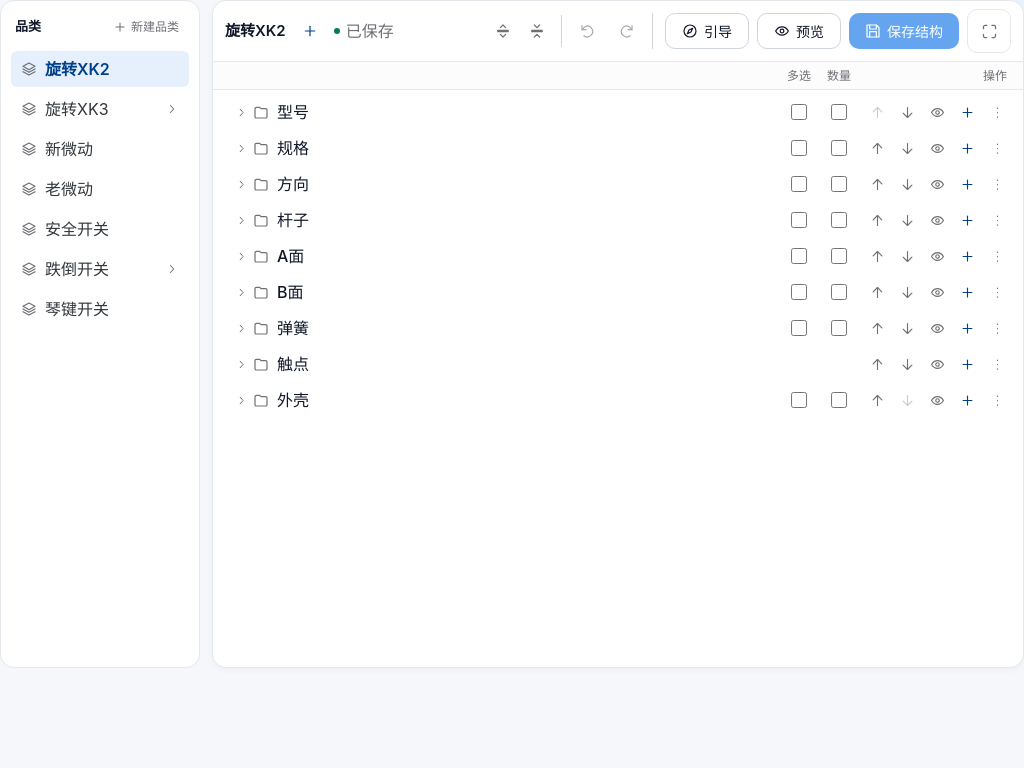
Test case: 目录默认折叠，切换品类保持各自的展开选择，展开和收起全部仍可用
The width and height of the screenshot is (1024, 768).
Expected: the button "0-2" is not shown
Click the button named "展开全部": (503,31) [487,15,519,47]
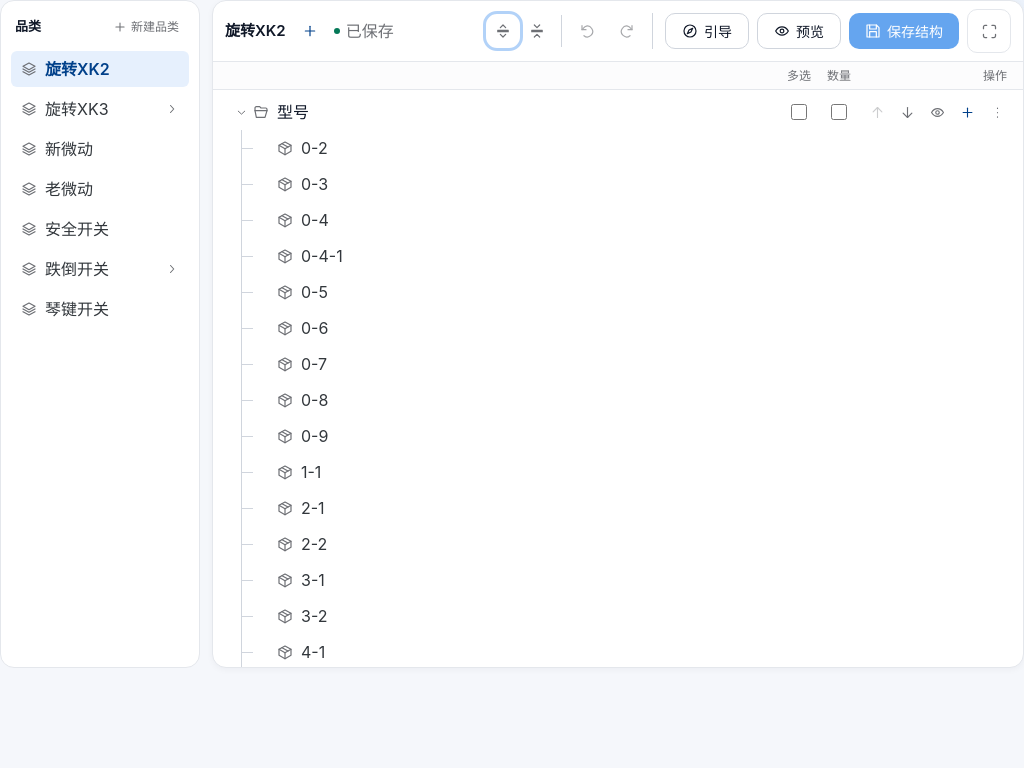
Expected: the button "0-2" is shown, [277,130,779,166]
Click the button "老微动": (100,189) [11,171,189,207]
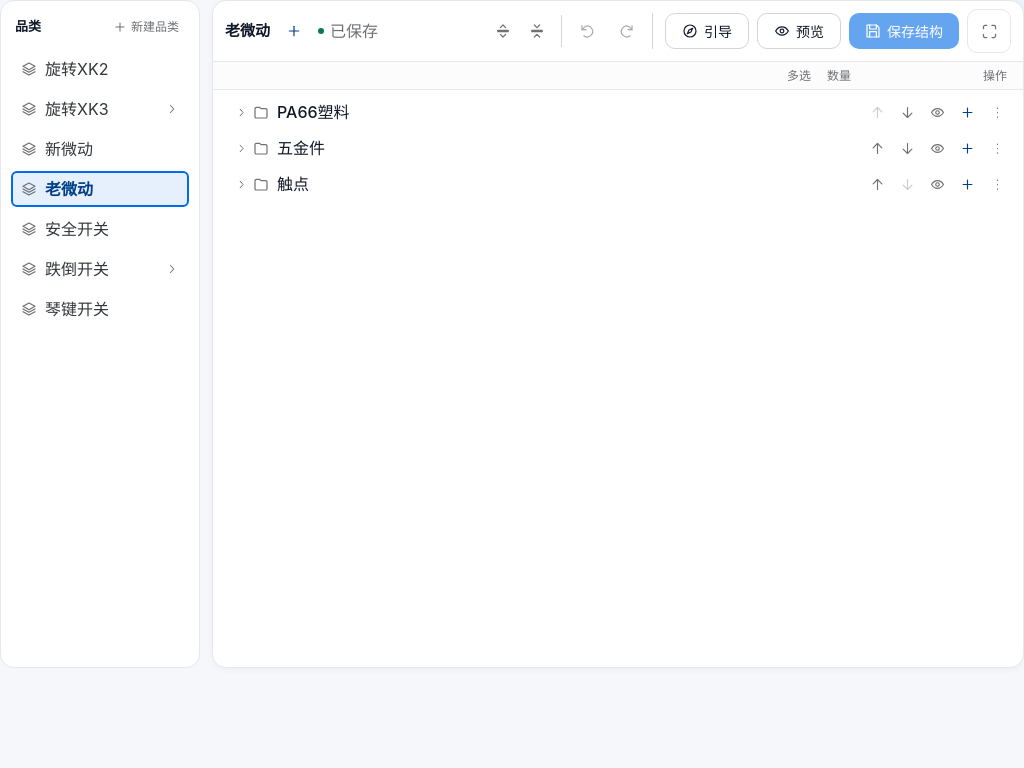
Click the button "旋转XK2": (100,69) [11,51,189,87]
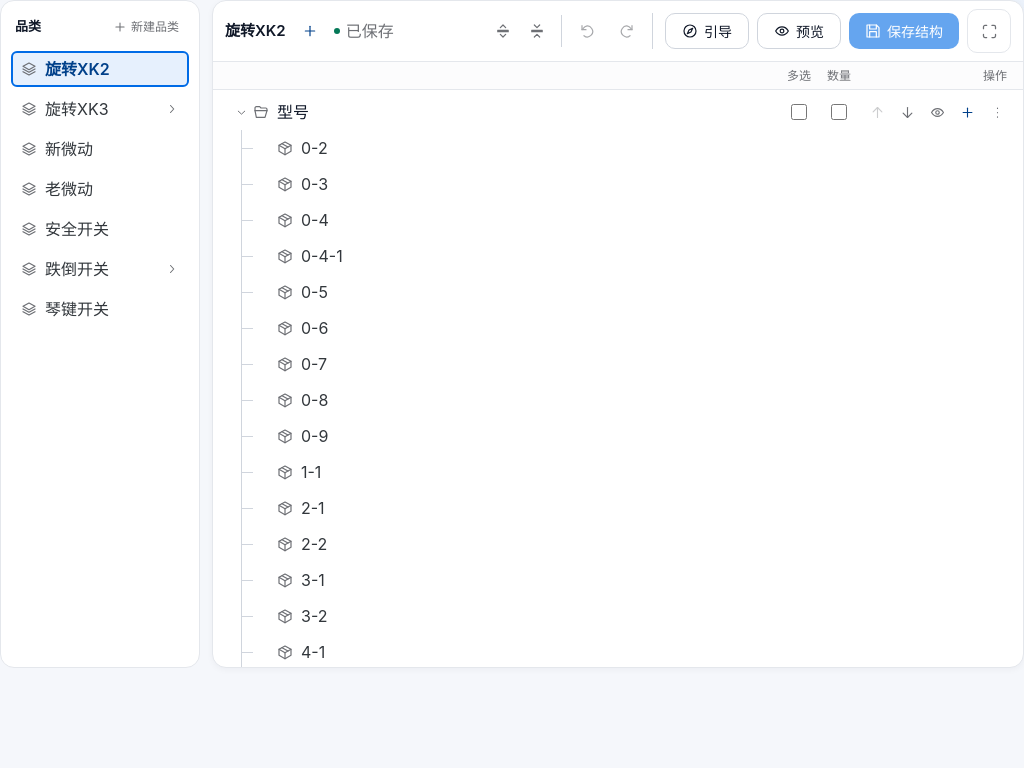
Expected: the button "0-2" is shown, [277,130,779,166]
Click the button named "收起全部": (537,31) [521,15,553,47]
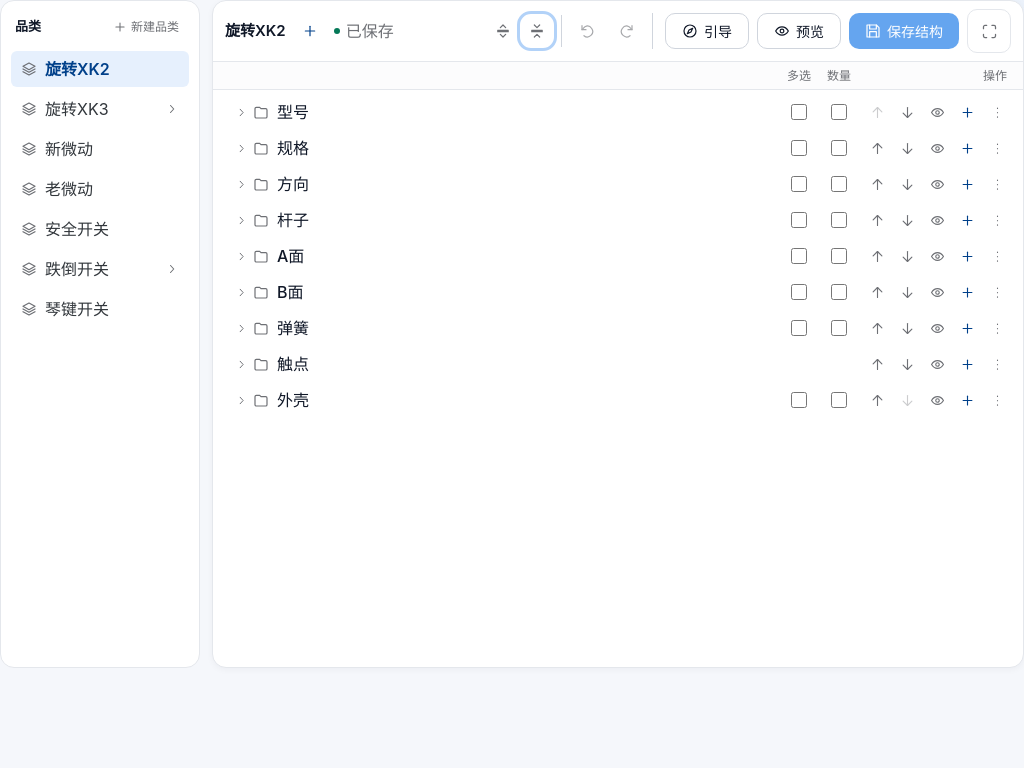
Expected: the button "0-2" is gone
Click the button named "展开：型号": (241,112) [229,100,253,124]
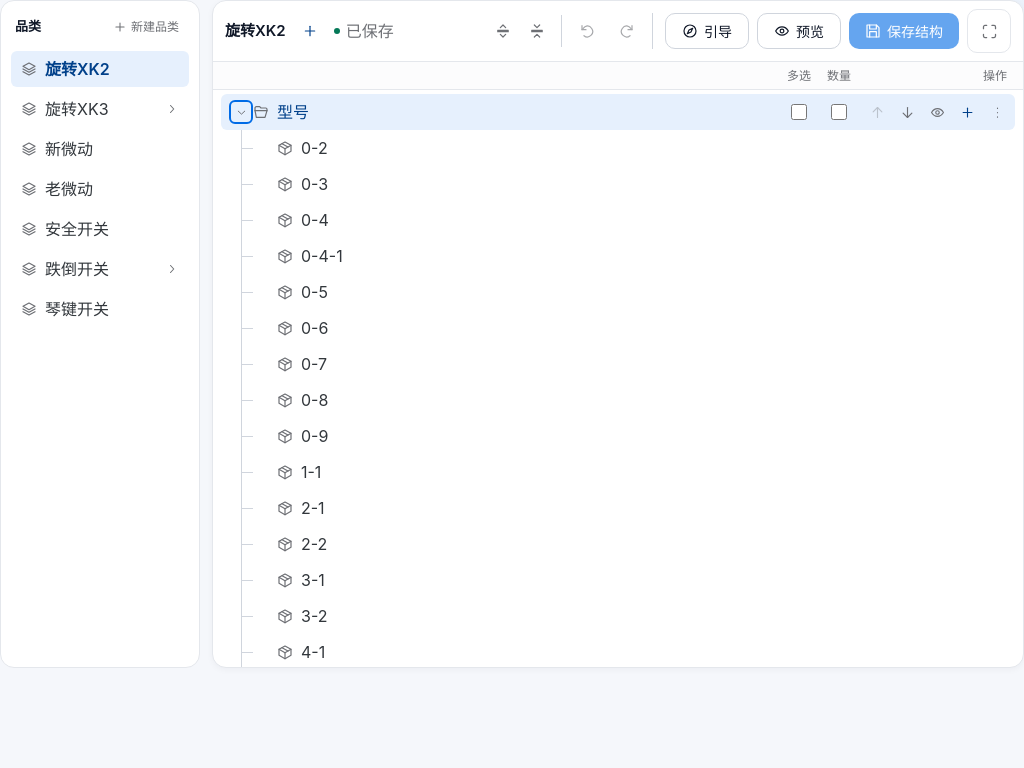
Expected: the button "0-2" is shown, [277,130,779,166]
